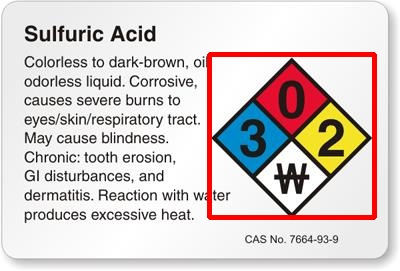nfpa: (209, 54, 374, 217)
